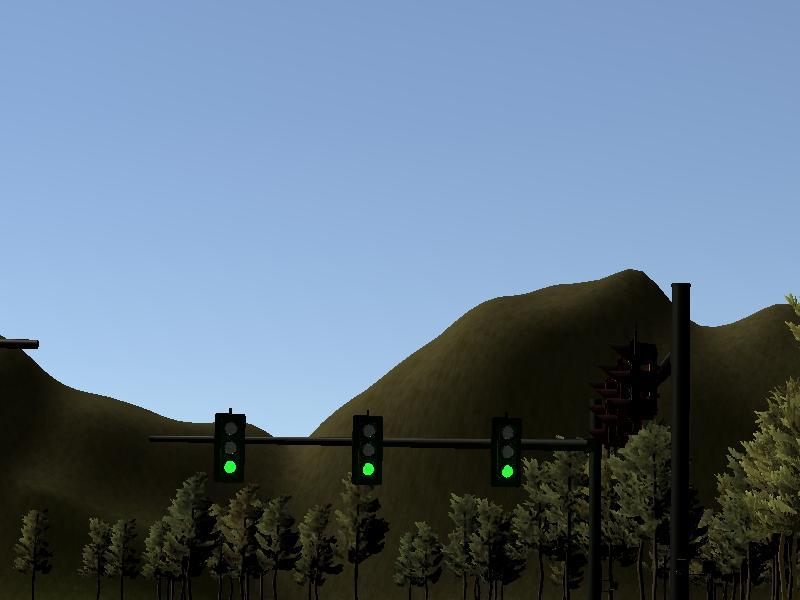Green: (492, 418, 522, 486), (352, 416, 382, 484), (213, 413, 243, 481)
